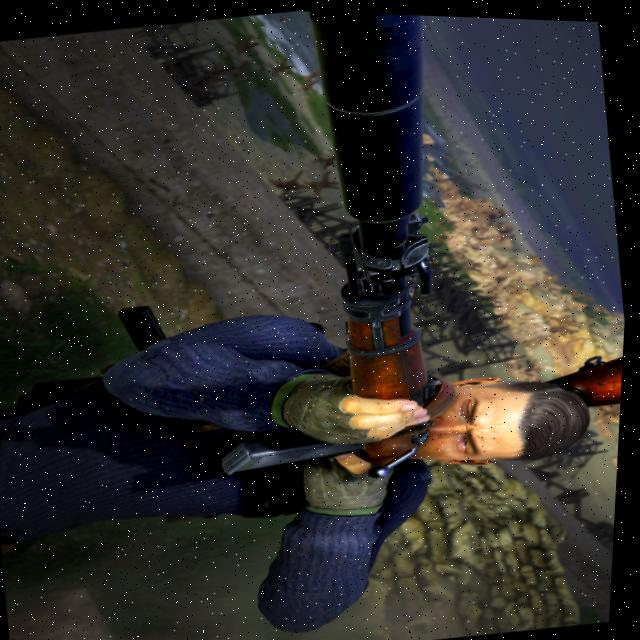firearm: (163, 5, 484, 495), (567, 345, 627, 407)
